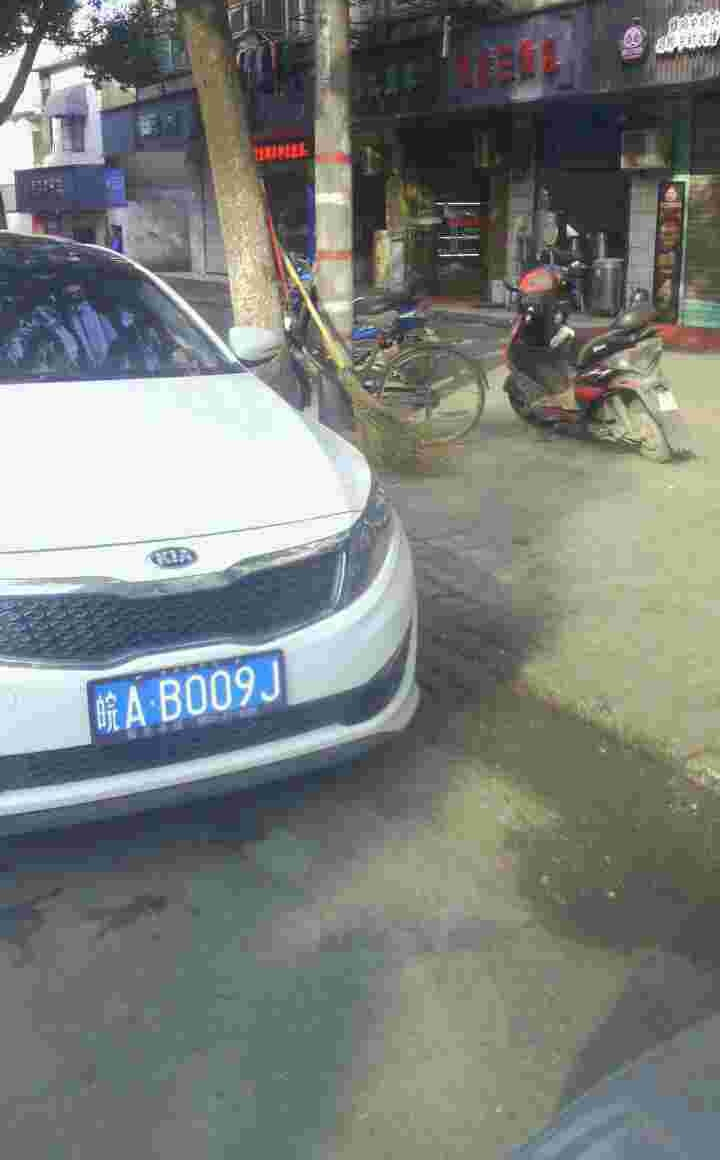plate: (97, 642, 290, 751)
